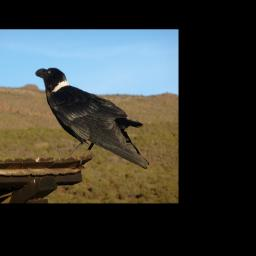Crow: (34, 64, 149, 170)
